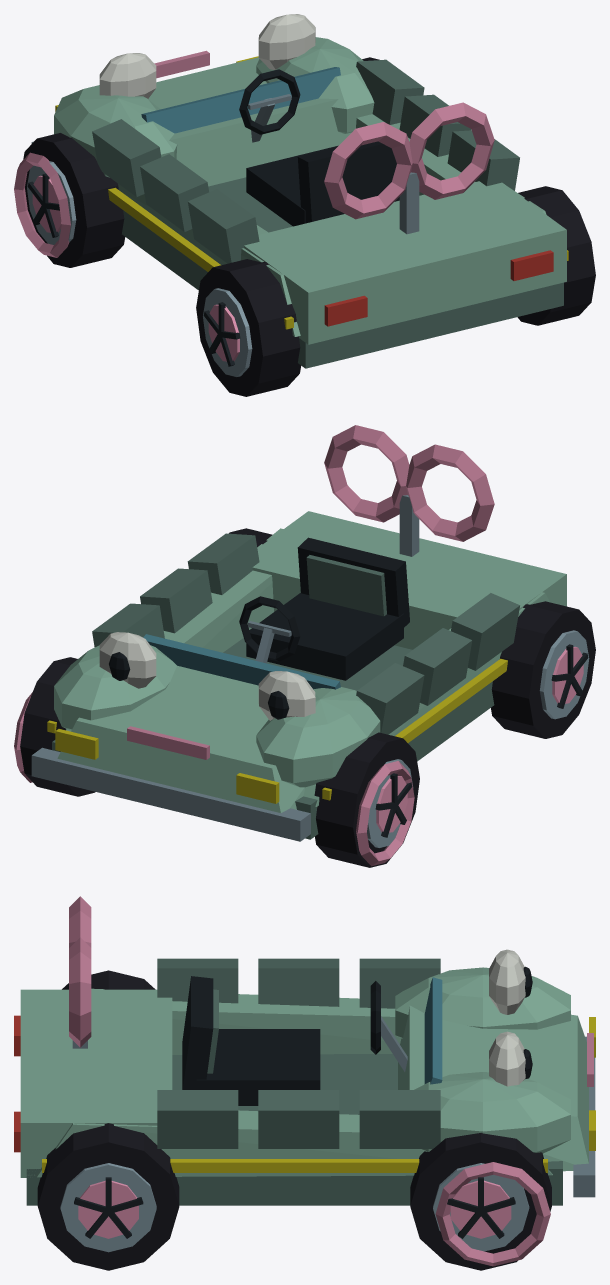
The model's file is kart.glb.
3 views of the same model, one above another, from view 1: azimuth 30°, elevation 25°; view 2: azimuth 150°, elevation 25°; view 3: azimuth 270°, elevation 25° (orthographic). The views are drawn at different scales.
Parts seen in each view (by area): view 1: identity-toy-car-toy-rounded-body-and-wind-up-key, identity-toy-car-motif-armor, wheel-rear-left, identity-toy-car-driver-cockpit, wheel-front-left, identity-toy-car-motif-eyes, identity-toy-car-motif-neon, wheel-rear-right; view 2: identity-toy-car-toy-rounded-body-and-wind-up-key, identity-toy-car-motif-armor, identity-toy-car-driver-cockpit, wheel-rear-left, wheel-front-left, identity-toy-car-motif-eyes, identity-toy-car-motif-neon, wheel-front-right; view 3: identity-toy-car-toy-rounded-body-and-wind-up-key, identity-toy-car-motif-armor, wheel-rear-right, wheel-front-right, identity-toy-car-driver-cockpit, identity-toy-car-motif-neon, identity-toy-car-motif-eyes, wheel-rear-left.
Part boxes in pixels (x1=…): identity-toy-car-toy-rounded-body-and-wind-up-key: x1=31, y1=37, x2=566, y2=368; identity-toy-car-motif-armor: x1=92, y1=59, x2=519, y2=263; wheel-rear-left: x1=196, y1=259, x2=300, y2=396; identity-toy-car-driver-cockpit: x1=239, y1=69, x2=399, y2=226; wheel-front-left: x1=23, y1=133, x2=125, y2=267; identity-toy-car-motif-eyes: x1=99, y1=14, x2=315, y2=98; identity-toy-car-motif-neon: x1=14, y1=152, x2=568, y2=329; wheel-rear-right: x1=517, y1=186, x2=595, y2=325; identity-toy-car-toy-rounded-body-and-wind-up-key: x1=31, y1=425, x2=566, y2=841; identity-toy-car-motif-armor: x1=92, y1=533, x2=519, y2=734; identity-toy-car-driver-cockpit: x1=239, y1=537, x2=409, y2=680; wheel-rear-left: x1=491, y1=601, x2=595, y2=738; wheel-front-left: x1=314, y1=732, x2=419, y2=867; identity-toy-car-motif-eyes: x1=99, y1=632, x2=315, y2=720; identity-toy-car-motif-neon: x1=14, y1=658, x2=507, y2=866; wheel-front-right: x1=20, y1=657, x2=95, y2=796; identity-toy-car-toy-rounded-body-and-wind-up-key: x1=14, y1=896, x2=595, y2=1205; identity-toy-car-motif-armor: x1=157, y1=958, x2=440, y2=1148; wheel-rear-right: x1=37, y1=1123, x2=179, y2=1270; wheel-front-right: x1=410, y1=1133, x2=551, y2=1270; identity-toy-car-driver-cockpit: x1=182, y1=976, x2=407, y2=1105; identity-toy-car-motif-neon: x1=42, y1=1159, x2=550, y2=1266; identity-toy-car-motif-eyes: x1=489, y1=949, x2=532, y2=1086; wheel-rear-left: x1=62, y1=970, x2=155, y2=989.
Size of the model in its own units: 2.13 by 1.42 by 2.88.
